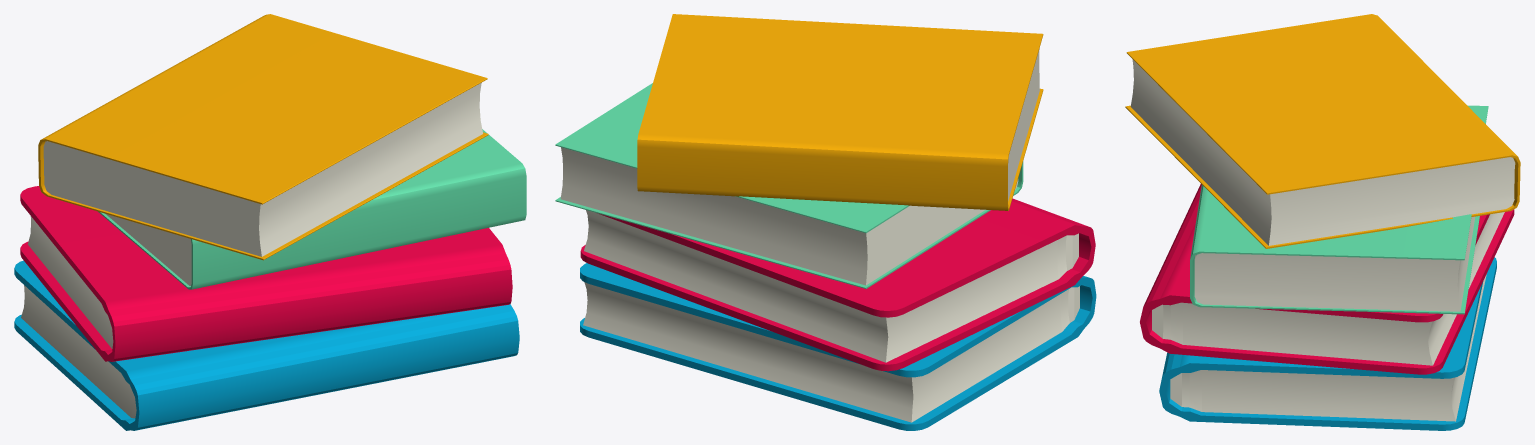
Rendered from Books.fbx.
3 views of the same model, side by side, from view 1: azimuth 30°, elevation 25°; view 2: azimuth 150°, elevation 25°; view 3: azimuth 270°, elevation 25° (orthographic). The views are drawn at different scales.
Parts seen in each view (by area): view 1: pasted__polySurface12 (×2), pasted__polySurface13 (×2), pasted__pCube71 (×2), pasted__pCube68 (×2); view 2: pasted__polySurface13 (×2), pasted__pCube68 (×2), pasted__polySurface12 (×2), pasted__pCube71 (×2); view 3: pasted__polySurface13 (×2), pasted__pCube71 (×2), pasted__pCube68 (×2), pasted__polySurface12 (×2).
Part boxes in pixels (x1,y1,x2,y2): pasted__polySurface12 (×2): [14, 186, 519, 430]; pasted__polySurface13 (×2): [38, 14, 526, 289]; pasted__pCube71 (×2): [43, 83, 482, 285]; pasted__pCube68 (×2): [21, 216, 136, 418]; pasted__polySurface13 (×2): [555, 14, 1043, 288]; pasted__pCube68 (×2): [583, 210, 1079, 422]; pasted__polySurface12 (×2): [580, 198, 1096, 430]; pasted__pCube71 (×2): [560, 48, 1039, 285]; pasted__polySurface13 (×2): [1125, 14, 1520, 314]; pasted__pCube71 (×2): [1130, 59, 1515, 311]; pasted__pCube68 (×2): [1152, 212, 1504, 421]; pasted__polySurface12 (×2): [1140, 184, 1514, 430].
Size of the model in its own units: 50.44 by 28.53 by 42.93.
